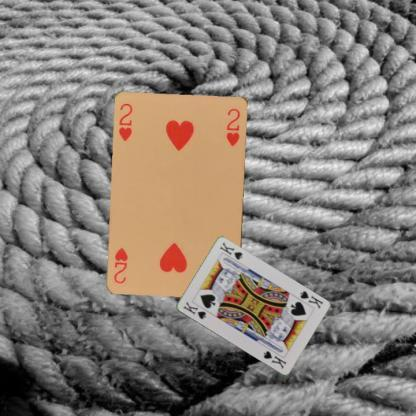2h: (116, 101, 134, 143)
Ks: (297, 288, 324, 310), (180, 298, 206, 320)
